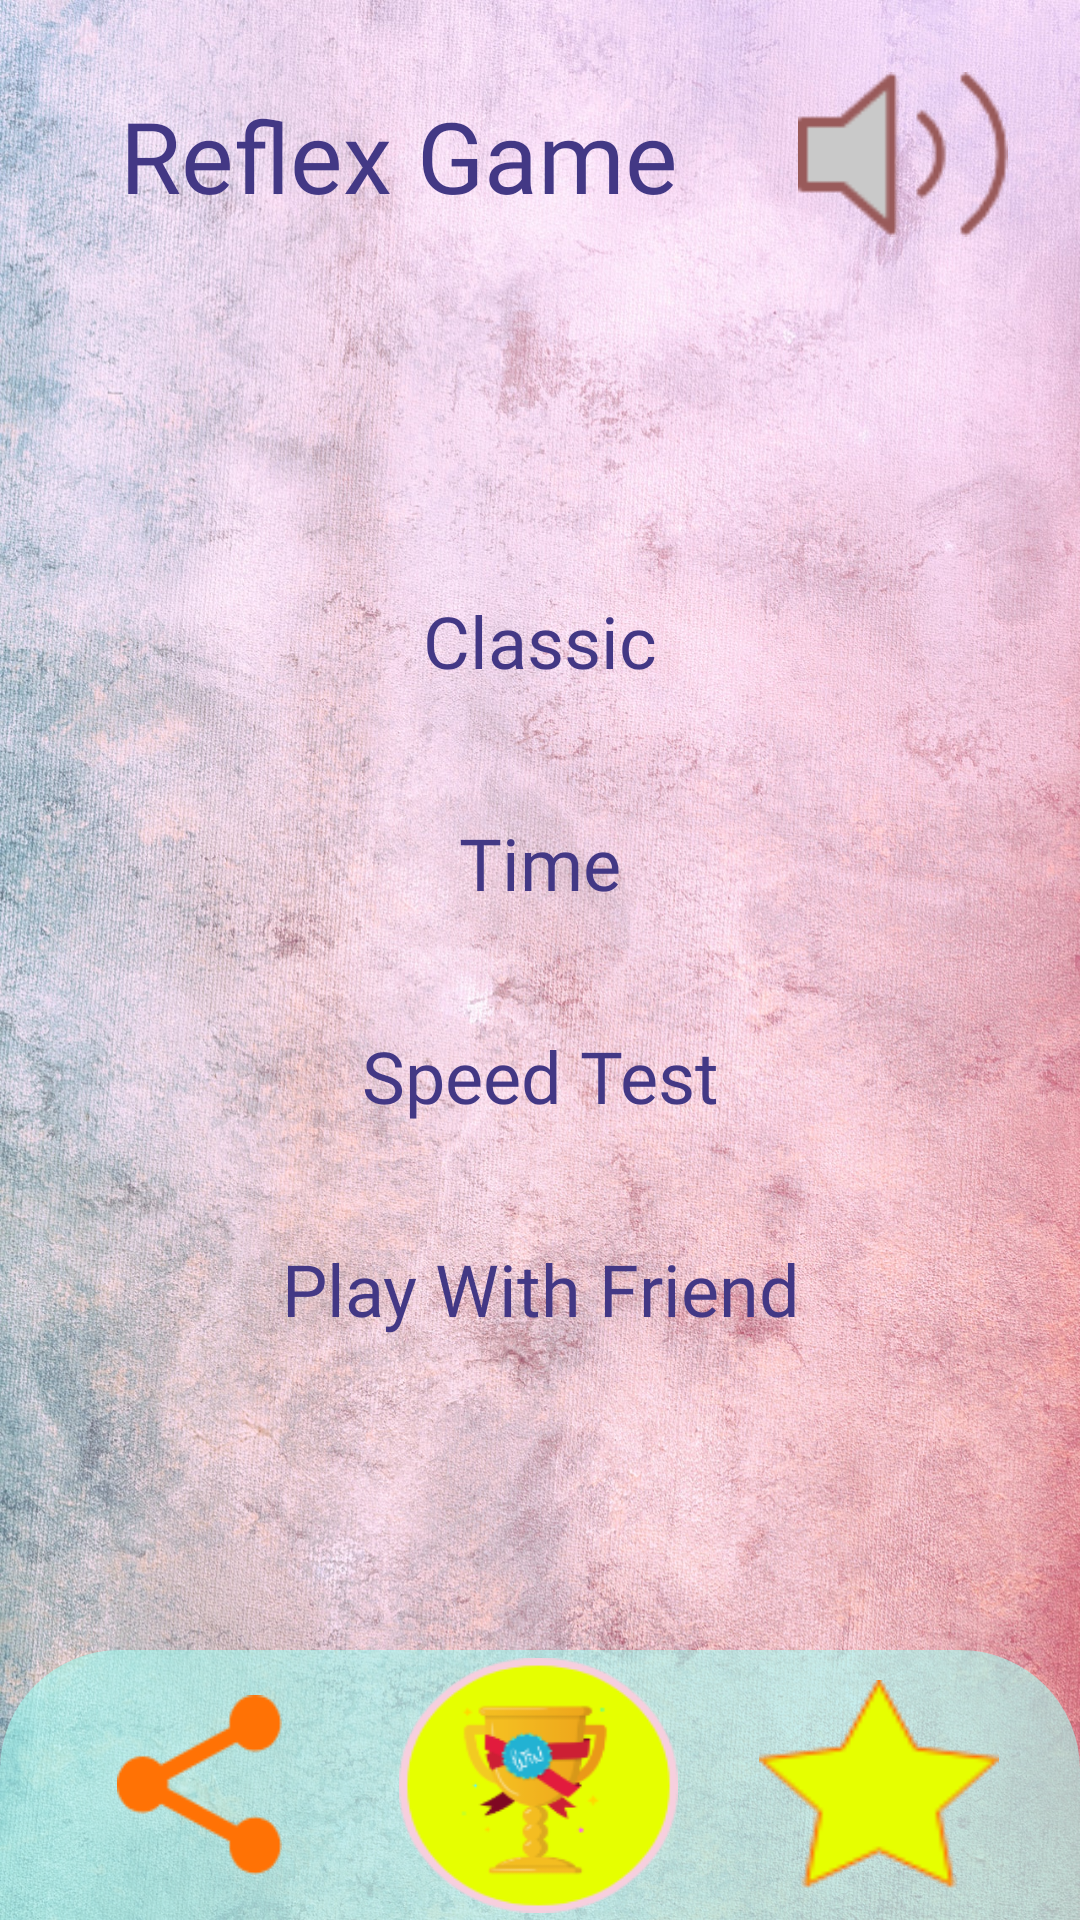

Icon click points for this 1080*1920 phone screenshot, format point (x, y):
unmute: point (903, 154)
